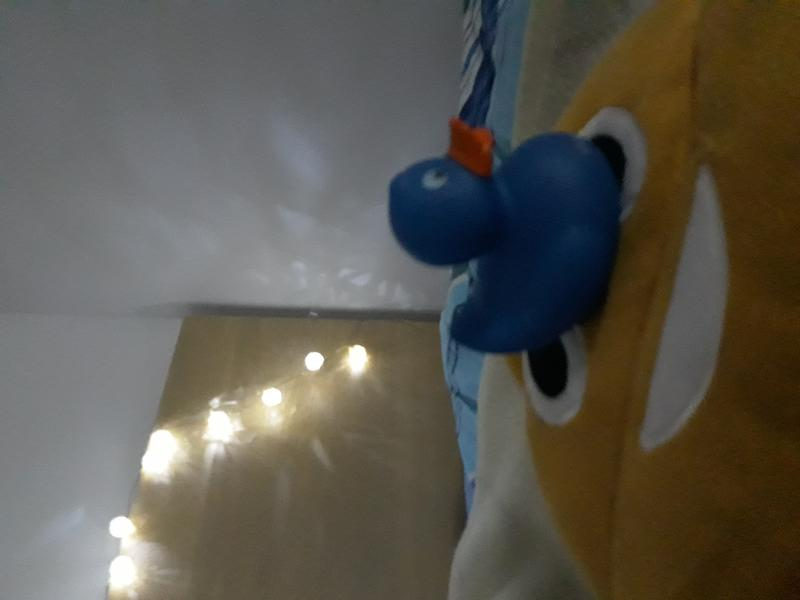plava_patkica: (376, 112, 629, 356)
